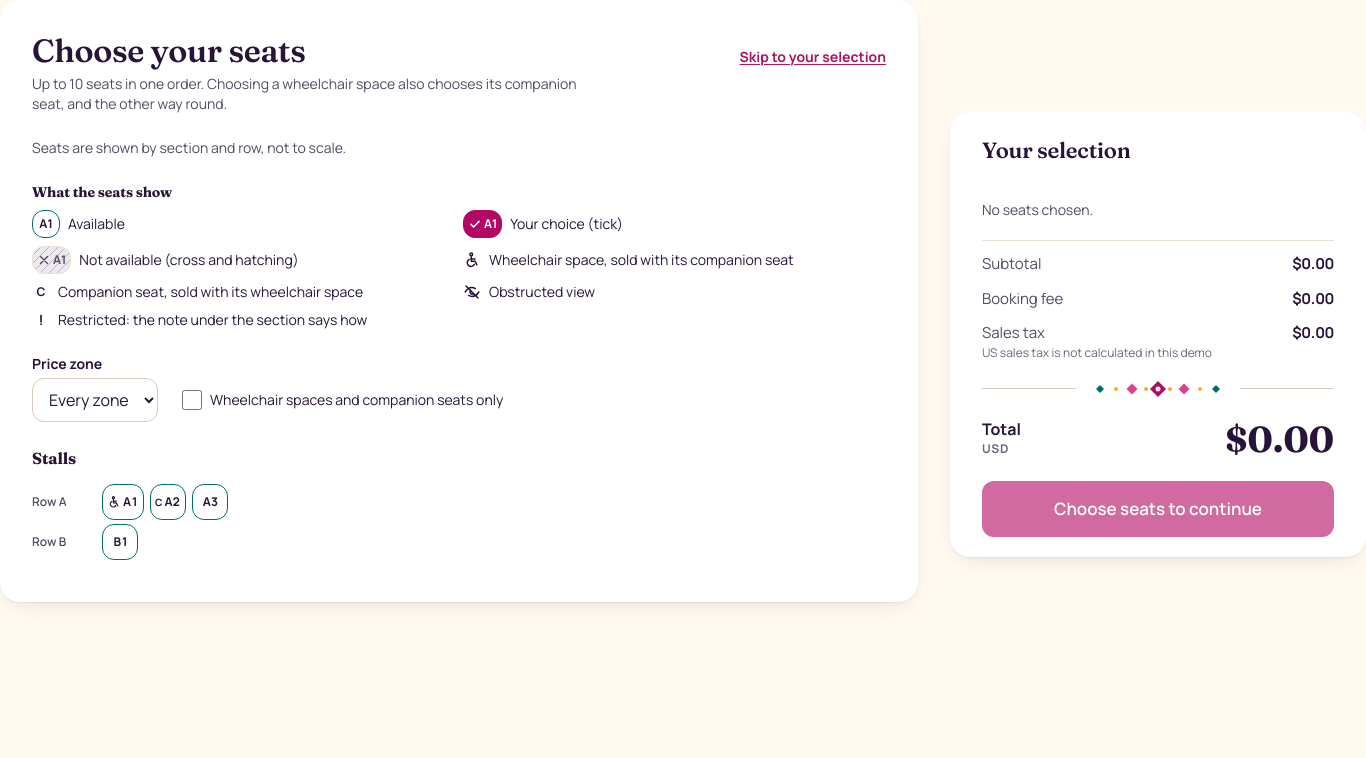
Test case: choosing seats › says in a polite status what each choice did, companions included
The width and height of the screenshot is (1366, 758).
Click the button "A1".
click(123, 502)  # box [102, 484, 144, 520]
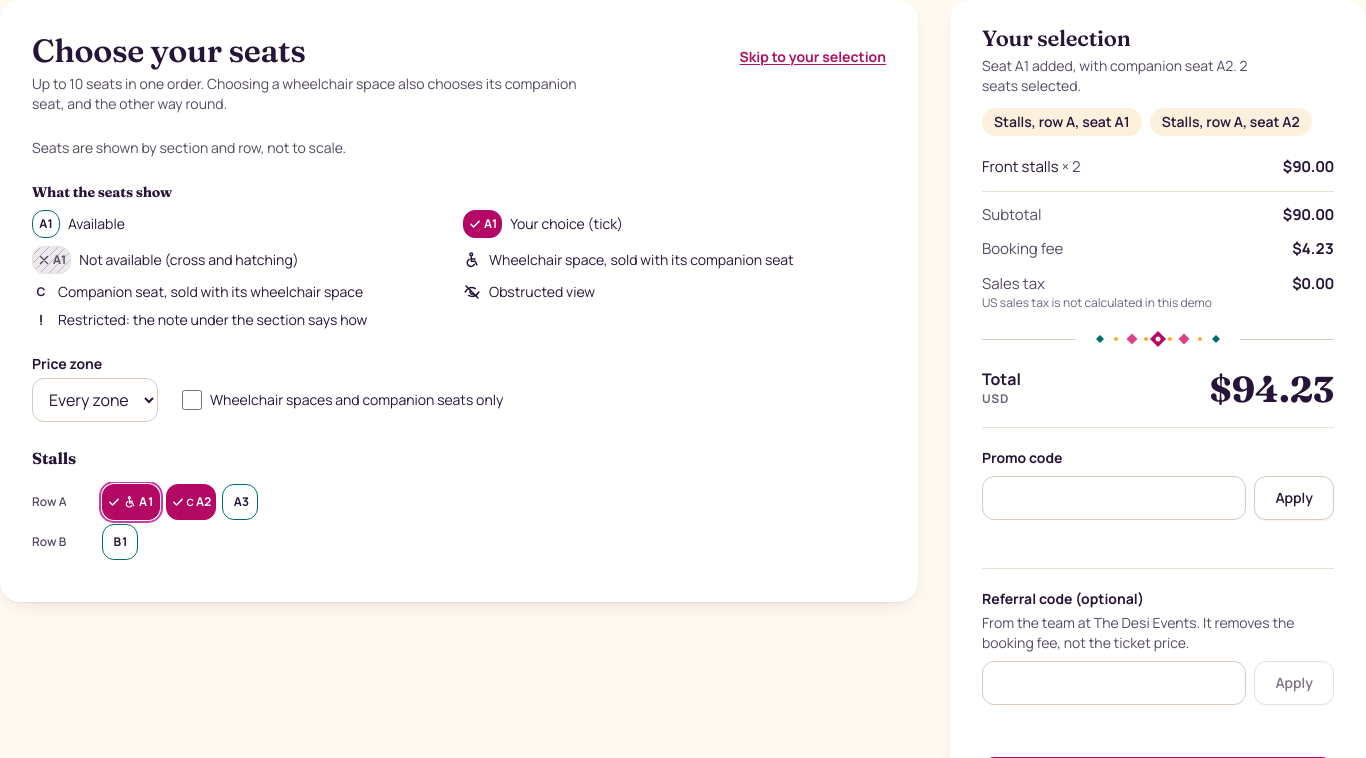
Result: the message "Seat A1 added, with companion seat A2. 2 seats selected." is shown at [982, 56, 1248, 95]
Result: the list named "Chosen seats" shows "Stalls, row A, seat A1" at [994, 112, 1130, 131]
Click the button "C A2".
click(191, 502)  # box [166, 484, 216, 520]
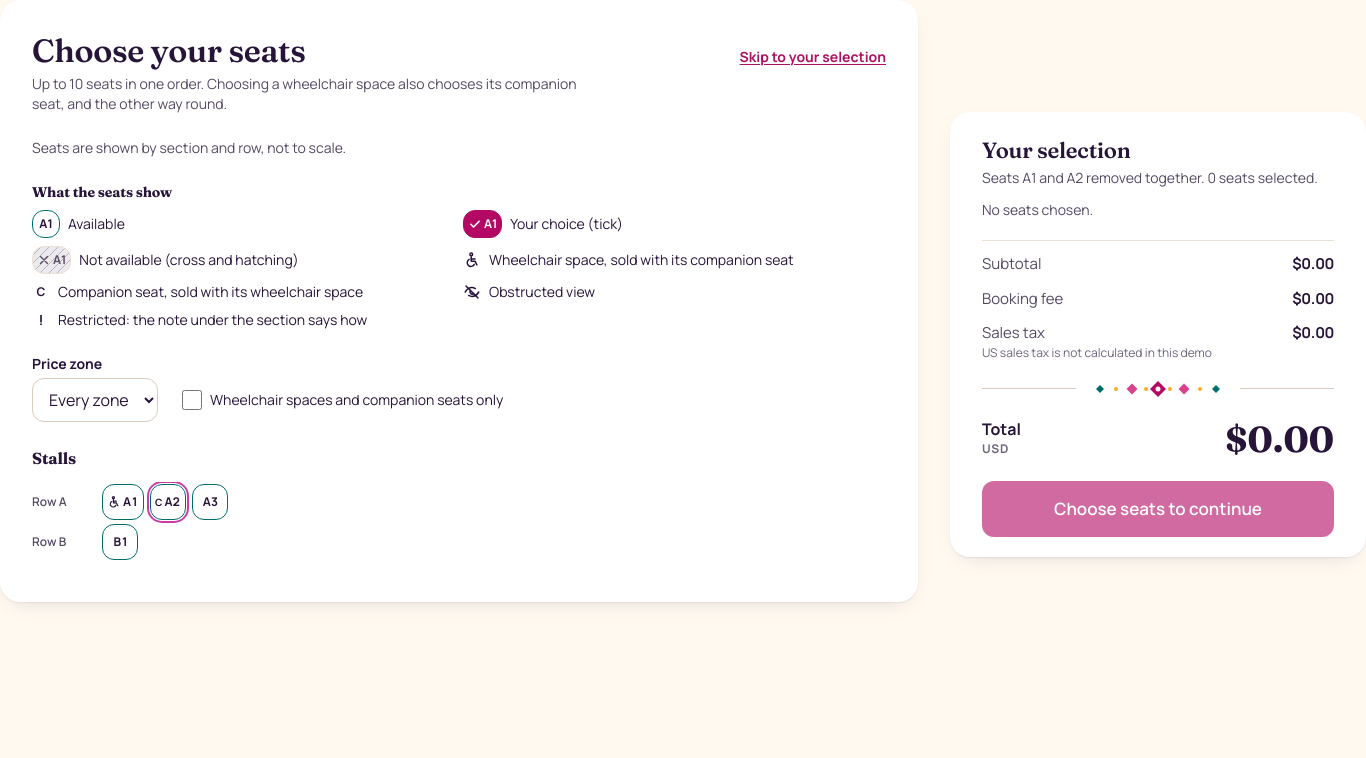
Result: the message reads "Seats A1 and A2 removed together. 0 seats selected." at [982, 168, 1318, 187]
Result: the button "Choose seats to continue" is disabled at [982, 480, 1334, 536]
